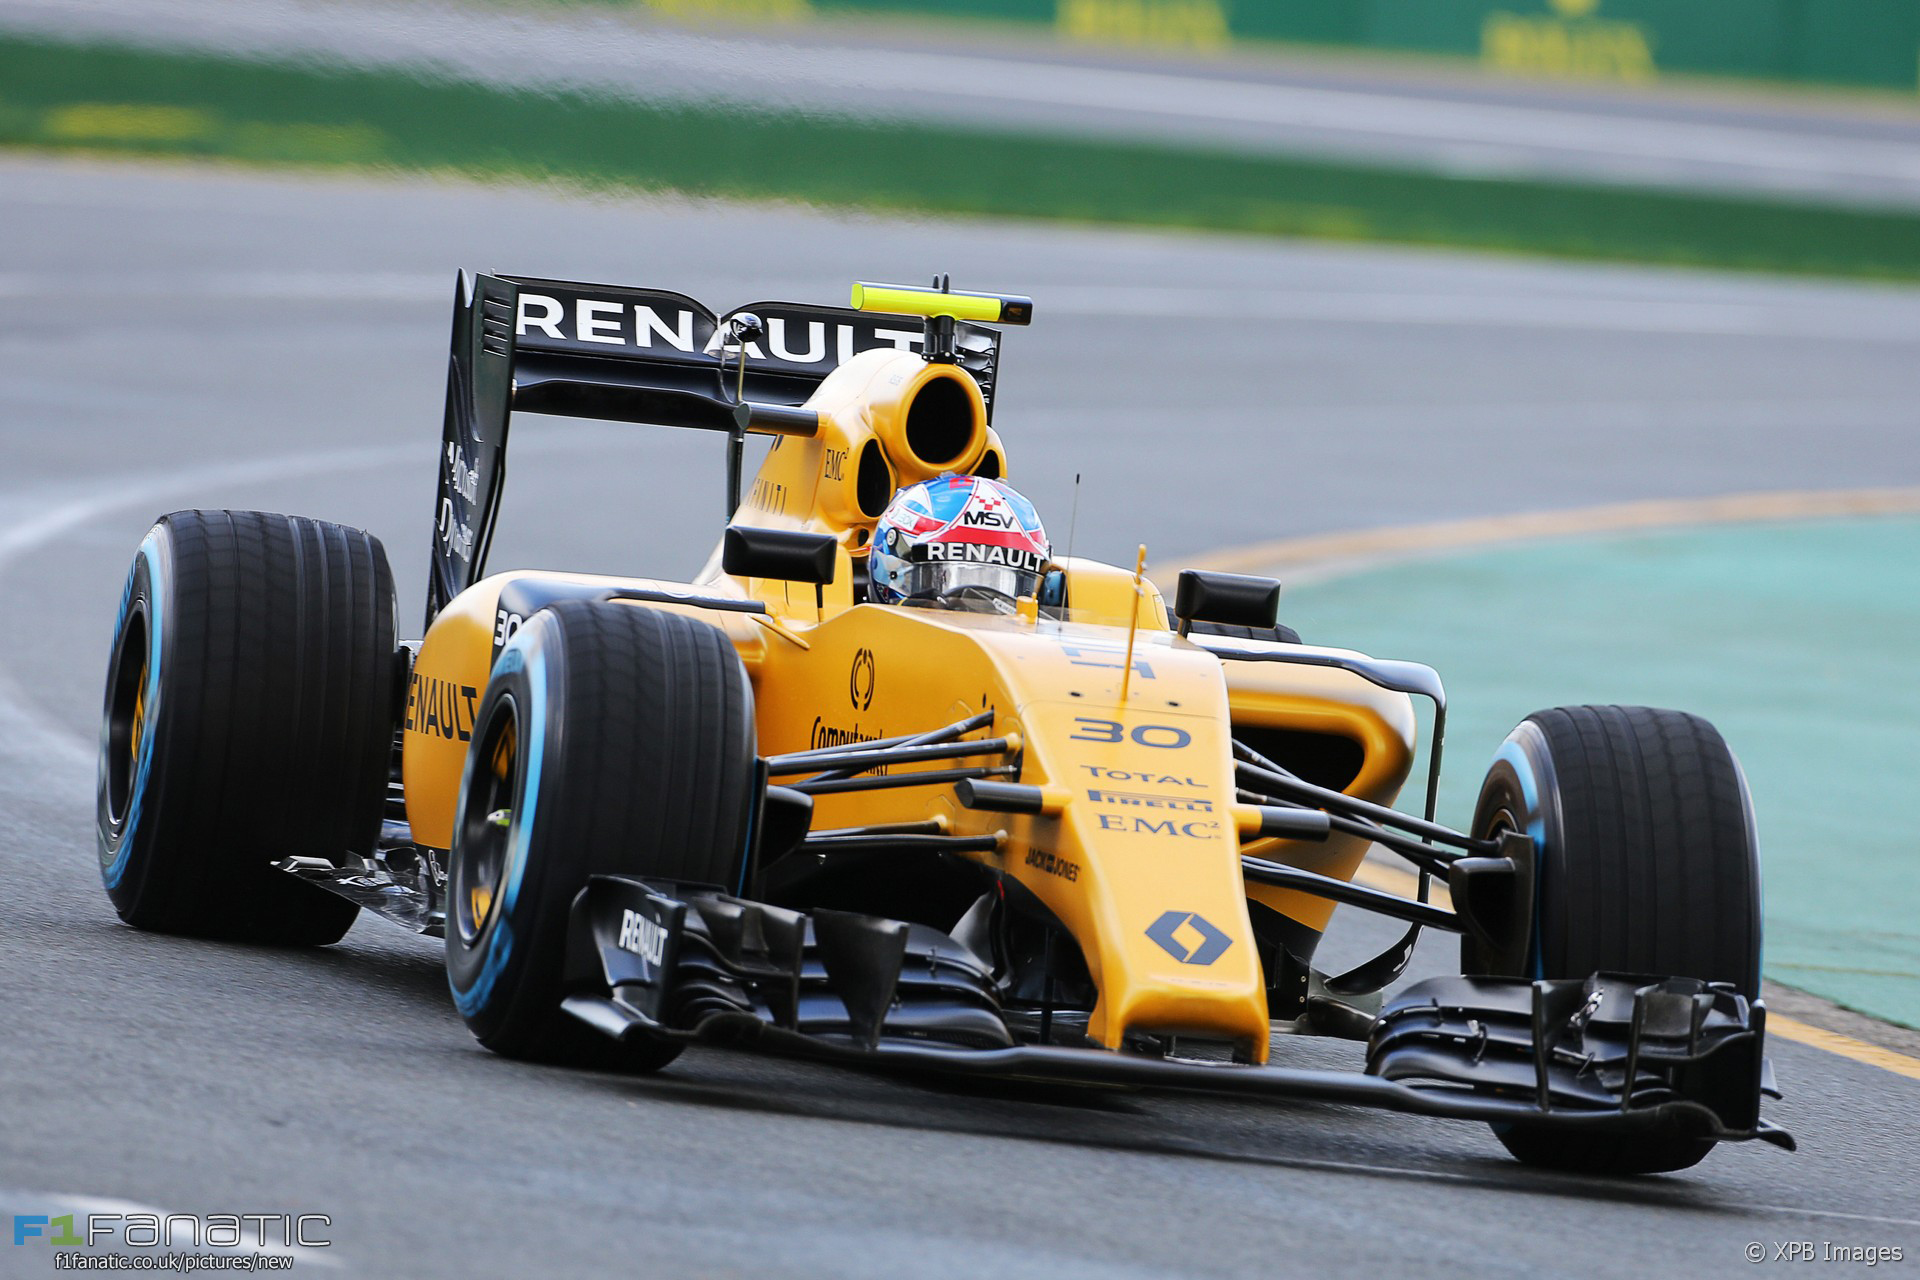F1 Car: (87, 249, 1809, 1177)
